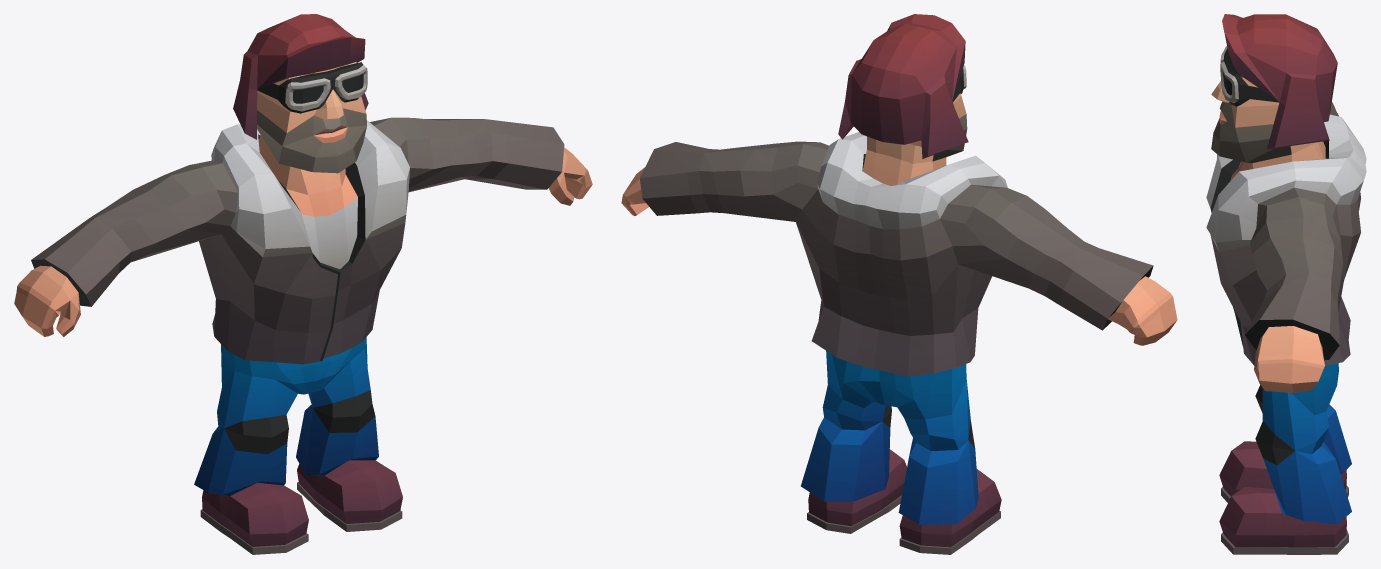
The model's file is fbx-jimmy.fbx.
The picture shows the model from 3 angles, left to right: view 1: azimuth 30°, elevation 25°; view 2: azimuth 150°, elevation 25°; view 3: azimuth 270°, elevation 25°; orthographic projection. The views are drawn at different scales.
Visible parts, largest first — view 1: mesh-pingers; view 2: mesh-pingers; view 3: mesh-pingers.
Boxes of the visible parts, x1=… form: mesh-pingers: x1=14, y1=14, x2=592, y2=554; mesh-pingers: x1=621, y1=14, x2=1177, y2=554; mesh-pingers: x1=1206, y1=14, x2=1366, y2=554.
Bounding box in the file's own units: 423 × 364 × 106.
